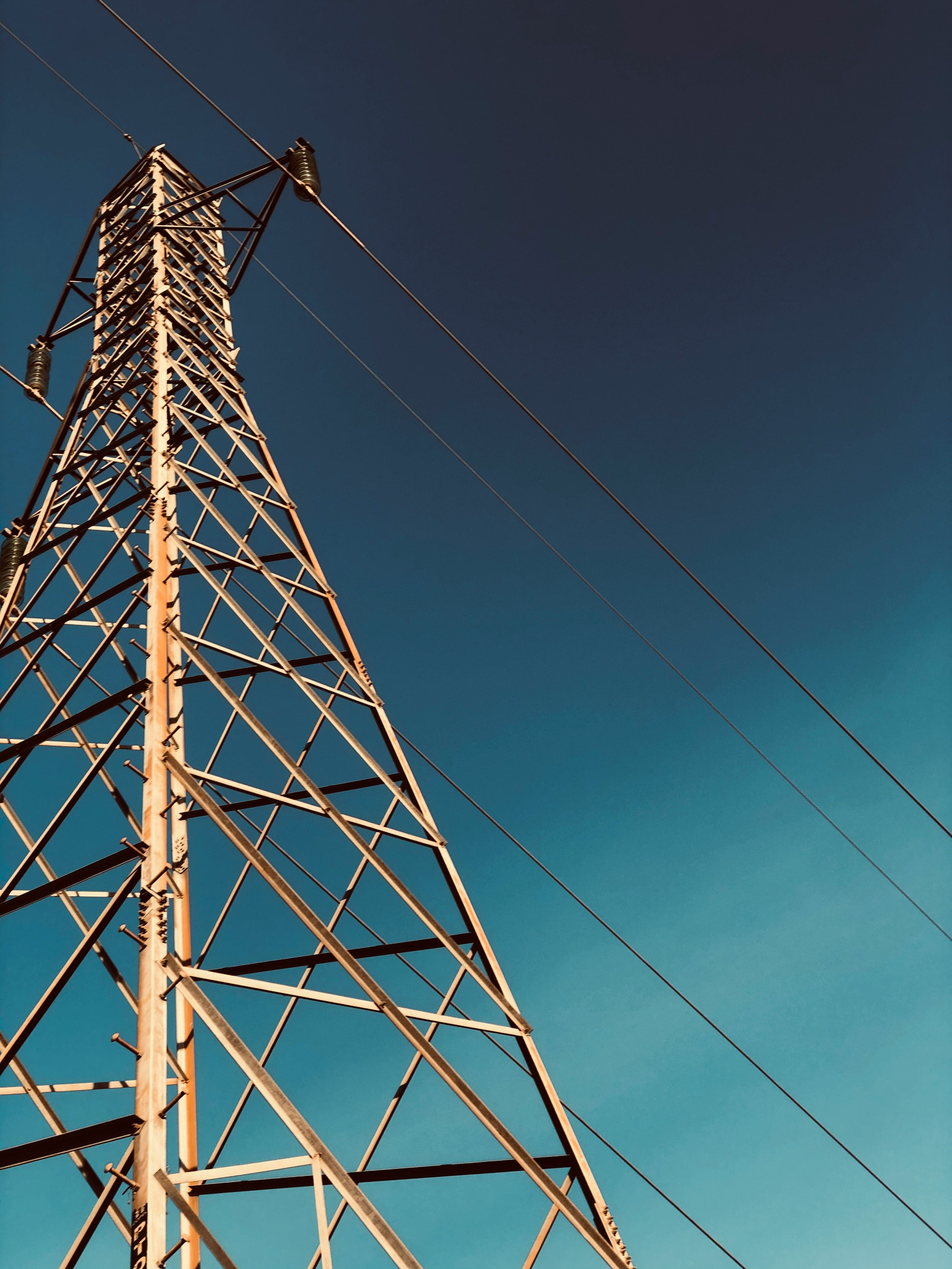insulator: (18, 329, 63, 410)
